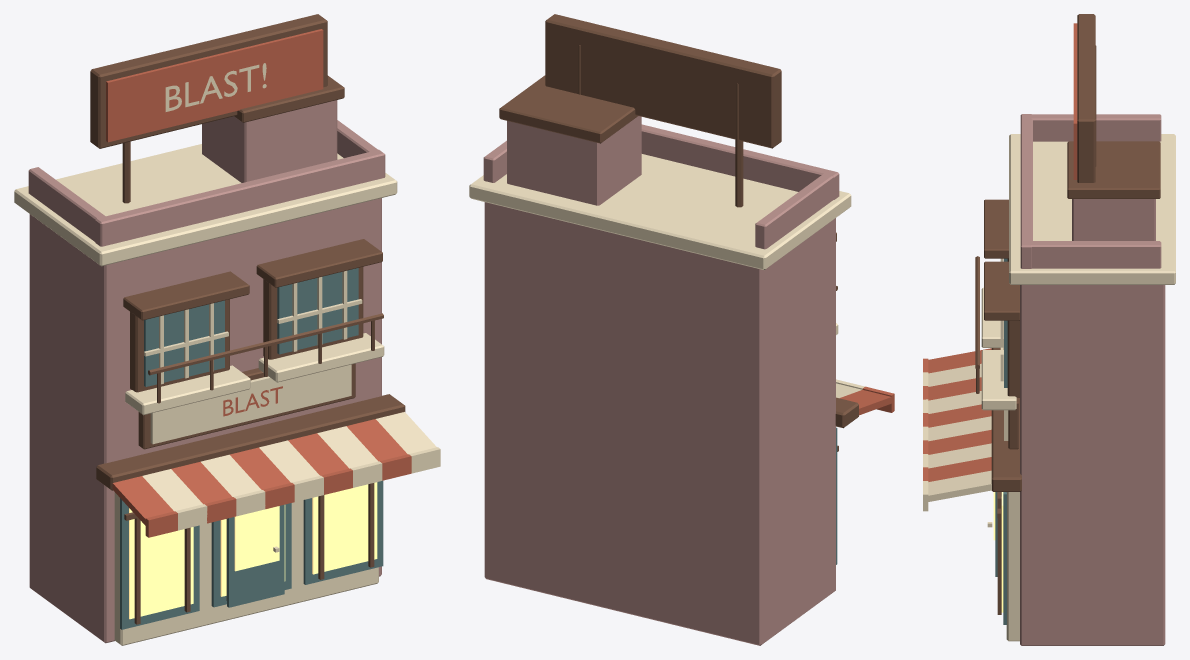
File: tpe_arcade_front.glb
3 renders of one model, left to right at view 1: azimuth 30°, elevation 25°; view 2: azimuth 150°, elevation 25°; view 3: azimuth 270°, elevation 25°, orthographic. The views are drawn at different scales.
Parts seen in each view (by area): view 1: tpe_arcade_front__rose-plaster, tpe_arcade_front__ivory-trim, tpe_arcade_front__dark-walnut, tpe_arcade_front__awning-terracotta, tpe_arcade_front__blue-window, tpe_arcade_front__warm-window; view 2: tpe_arcade_front__rose-plaster, tpe_arcade_front__dark-walnut, tpe_arcade_front__ivory-trim, tpe_arcade_front__awning-terracotta; view 3: tpe_arcade_front__rose-plaster, tpe_arcade_front__ivory-trim, tpe_arcade_front__dark-walnut, tpe_arcade_front__awning-terracotta, tpe_arcade_front__blue-window, tpe_arcade_front__warm-window.
Part boxes in pixels (bbox=[...]): tpe_arcade_front__rose-plaster: bbox=[28, 100, 385, 643]; tpe_arcade_front__ivory-trim: bbox=[14, 63, 440, 645]; tpe_arcade_front__dark-walnut: bbox=[90, 14, 405, 624]; tpe_arcade_front__awning-terracotta: bbox=[106, 29, 411, 537]; tpe_arcade_front__blue-window: bbox=[120, 268, 383, 629]; tpe_arcade_front__warm-window: bbox=[129, 482, 377, 619]; tpe_arcade_front__rose-plaster: bbox=[483, 116, 839, 645]; tpe_arcade_front__dark-walnut: bbox=[499, 14, 858, 451]; tpe_arcade_front__ivory-trim: bbox=[469, 154, 864, 398]; tpe_arcade_front__awning-terracotta: bbox=[840, 386, 894, 415]; tpe_arcade_front__rose-plaster: bbox=[1020, 114, 1165, 645]; tpe_arcade_front__ivory-trim: bbox=[923, 134, 1175, 641]; tpe_arcade_front__dark-walnut: bbox=[975, 14, 1160, 614]; tpe_arcade_front__awning-terracotta: bbox=[923, 23, 1077, 481]; tpe_arcade_front__blue-window: bbox=[995, 258, 1007, 624]; tpe_arcade_front__warm-window: bbox=[993, 492, 1003, 612].
Bounding box in the file's own units: 40.92 × 71.04 × 31.6.
